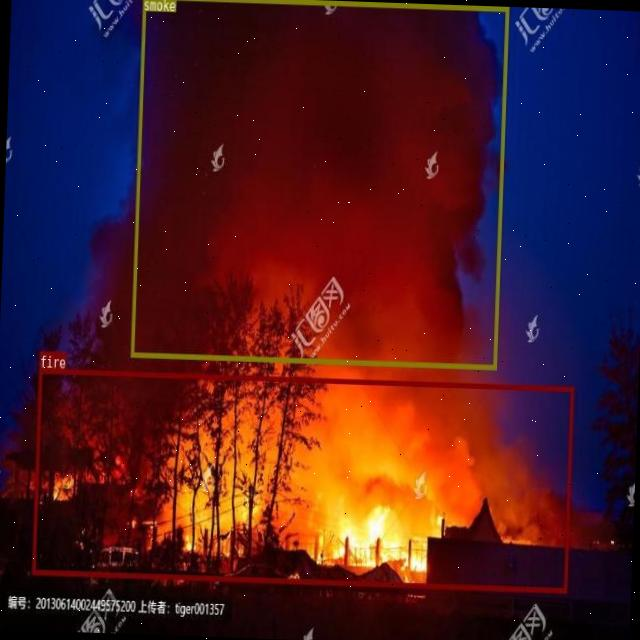fire: (31, 367, 573, 592)
smoke: (130, 0, 508, 369)
